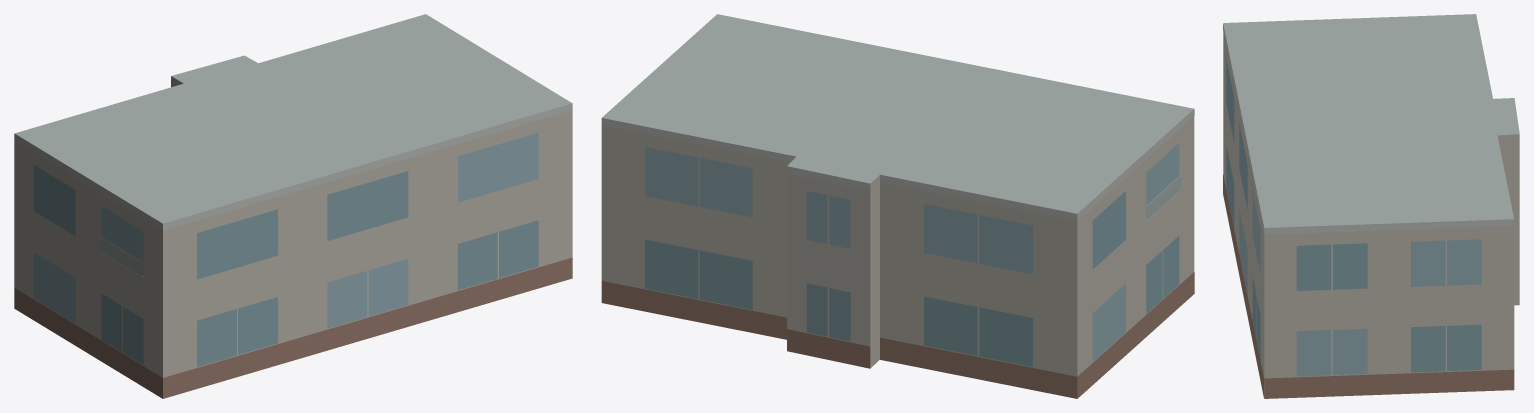
File: survey-upis-32613086.glb
3 renders of one model, left to right at view 1: azimuth 30°, elevation 25°; view 2: azimuth 150°, elevation 25°; view 3: azimuth 270°, elevation 25°, orthographic. The views are drawn at different scales.
Visible parts, largest first — view 1: survey-upis-32613086.tmp; view 2: survey-upis-32613086.tmp; view 3: survey-upis-32613086.tmp.
Part boxes in pixels (x1,y1,x2,y2): survey-upis-32613086.tmp: (14, 14, 572, 398); survey-upis-32613086.tmp: (601, 14, 1194, 398); survey-upis-32613086.tmp: (1223, 14, 1519, 398).
Bounding box in the file's own units: 16.39 × 6.1 × 9.61.
